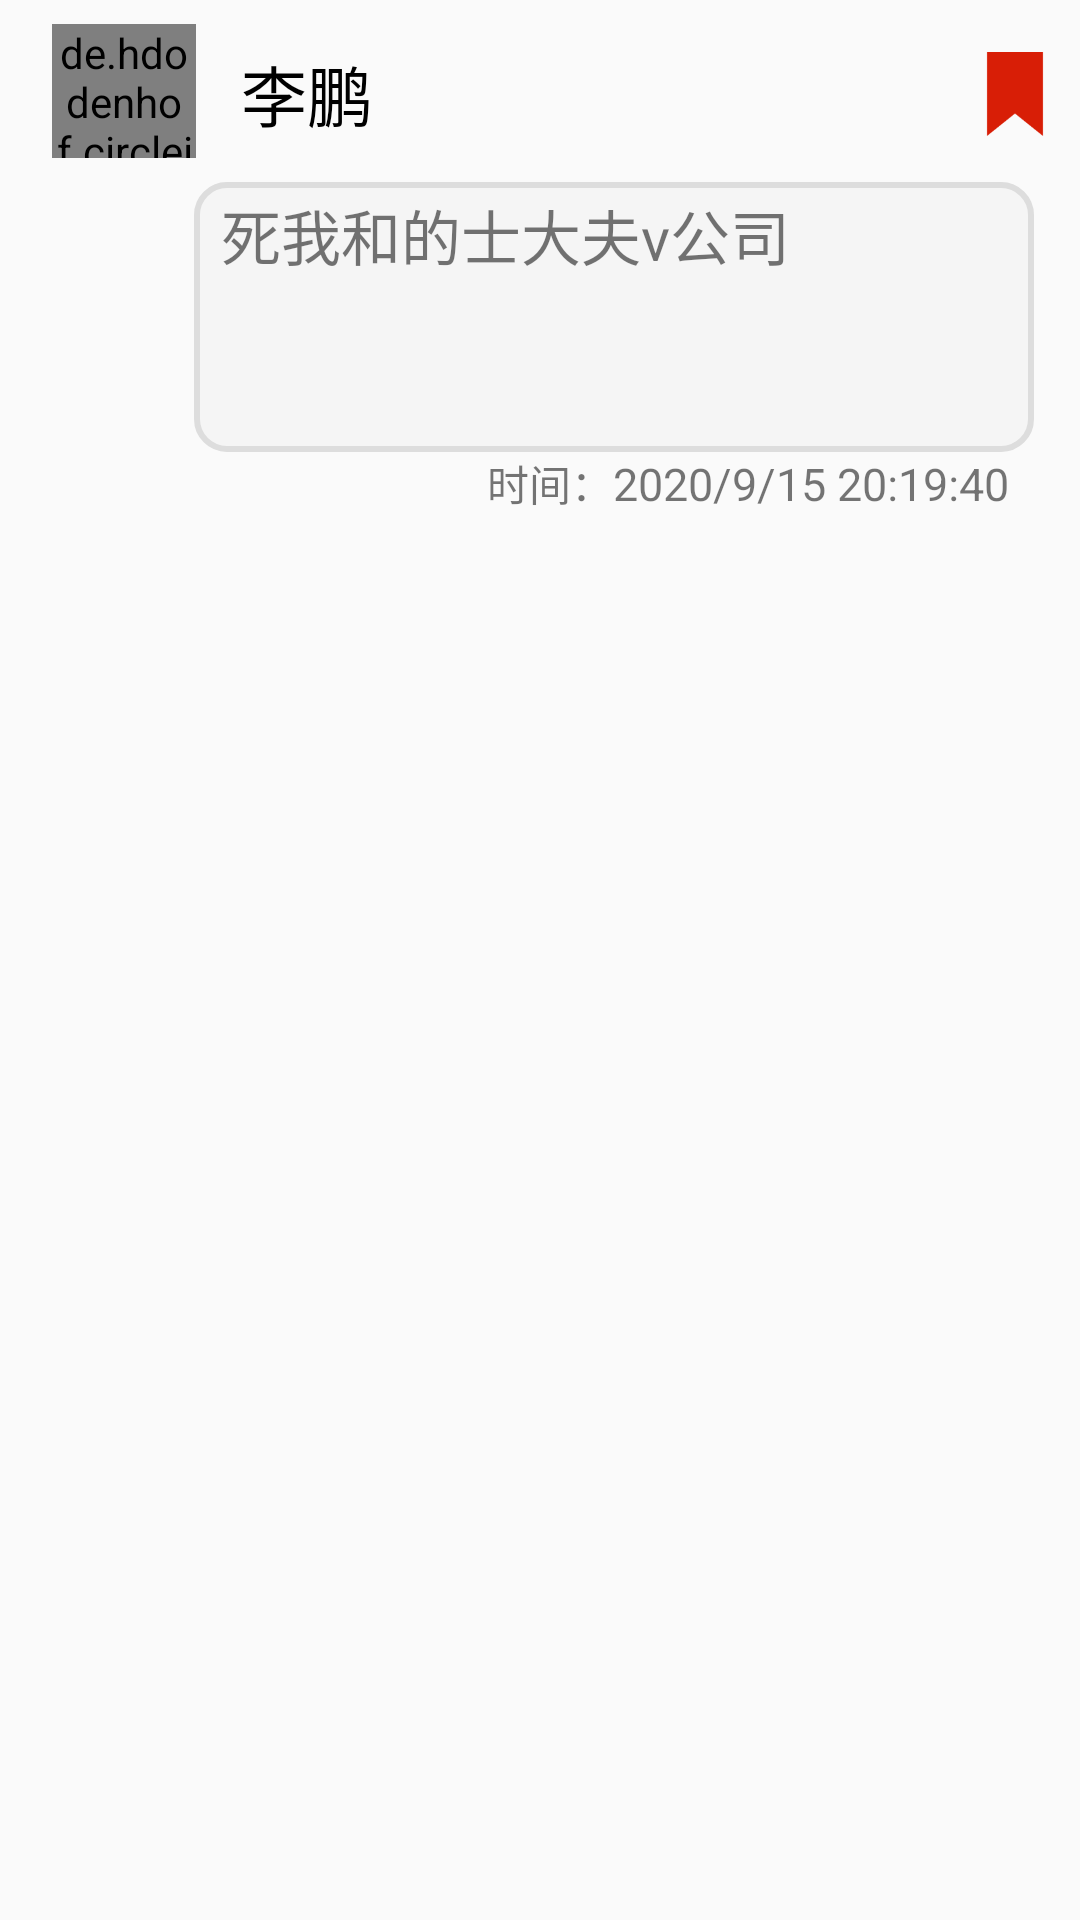

Icon bounding boxes for this 1080px x 1920px phone screenshot, format Rect(x1, y1, x2, y2):
biaoqianyi: Rect(987, 52, 1043, 136)
